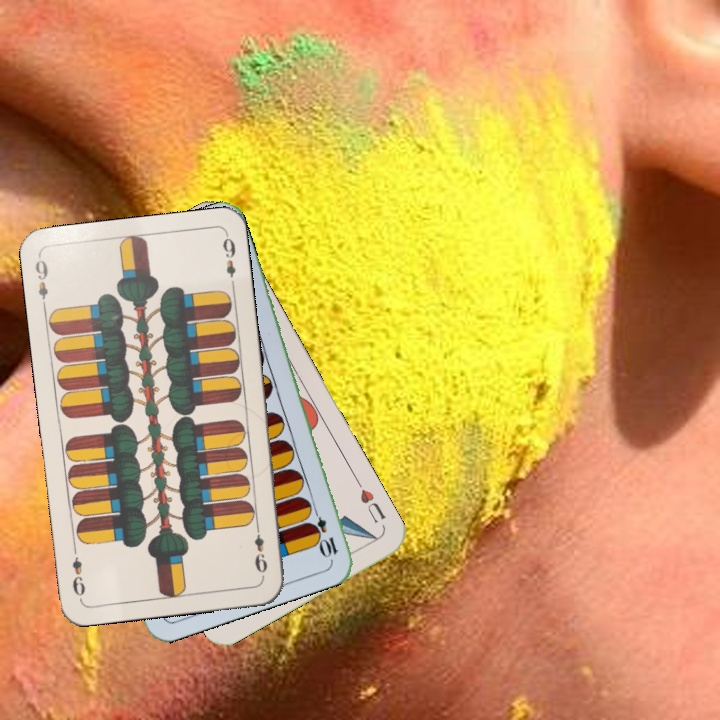E10: (307, 502, 340, 560)
E9: (31, 253, 51, 312), (250, 520, 270, 575)
HU: (356, 484, 389, 527)
